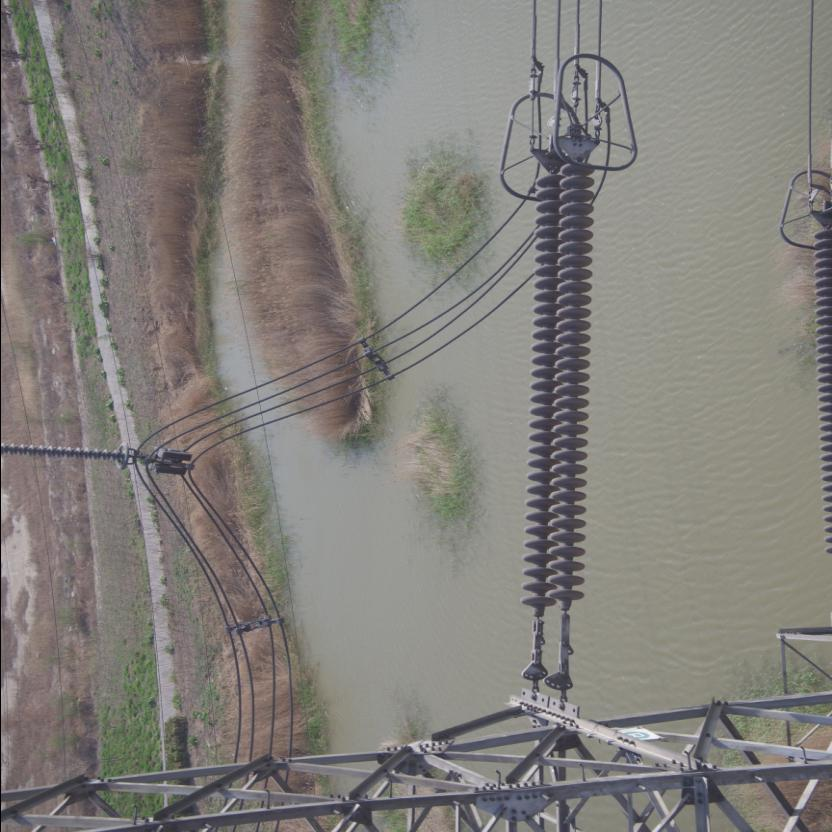insulator: (514, 149, 598, 643)
